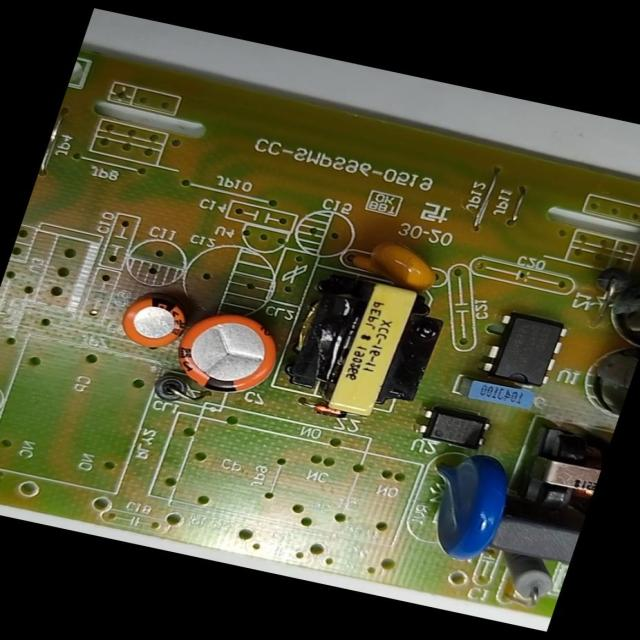Cap1: (162, 302, 292, 406)
Cap2: (112, 284, 197, 360)
Cap3: (573, 339, 639, 432)
Cap4: (598, 250, 640, 348)
MOSFET: (472, 305, 575, 392)
Mov: (399, 446, 517, 568)
Resistor: (487, 551, 564, 607)
Transformer: (272, 267, 456, 429), (502, 416, 613, 523)
